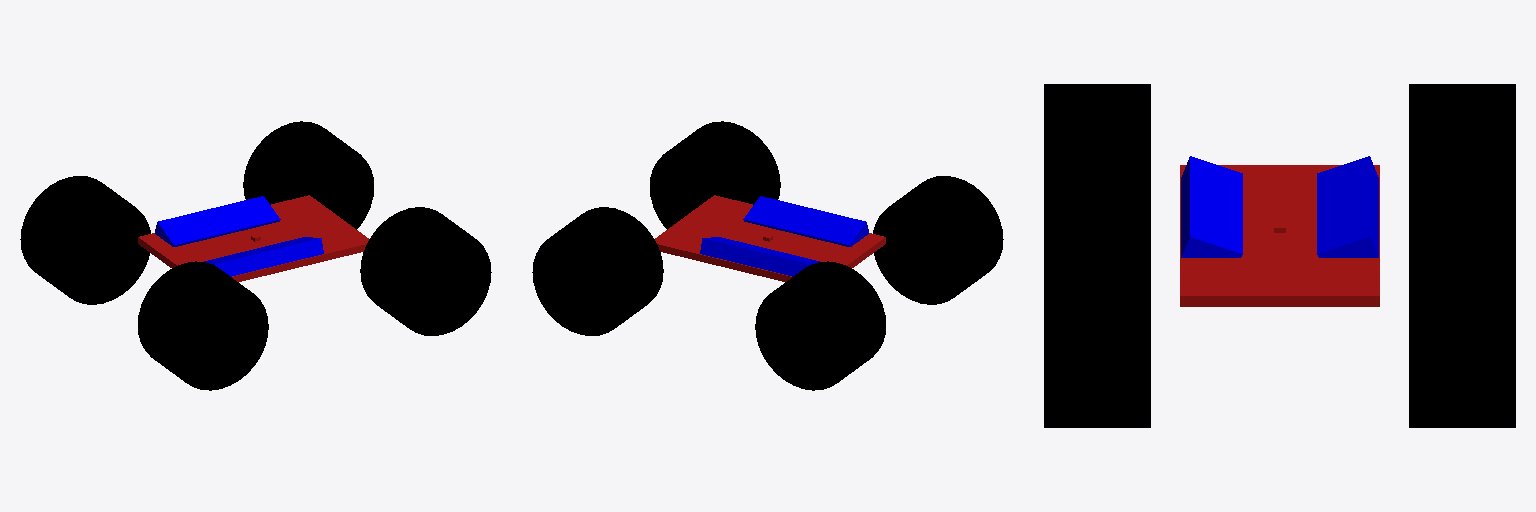
URDF robot description (em_3905):
<?xml version="1.0" ?>
<!-- =================================================================================== -->
<!-- |    This document was autogenerated by xacro from em_3905.urdf.xacro             | -->
<!-- |    EDITING THIS FILE BY HAND IS NOT RECOMMENDED                                 | -->
<!-- =================================================================================== -->
<!-- em_3905.urdf.xacro

This file defines a model of a Traxxas(R) E-Maxx(R) #3905 RC (Radio Controlled)
truck.

Lengths are measured in meters, angles are measured in radians, and masses are
measured in kilograms. All of these values are approximations.

To work with Gazebo, each link must have an inertial element, even if
the link only serves to connect two joints. To be visible in Gazebo, a link
must have a collision element. Furthermore, the link must have a Gazebo
material.

Traxxas(R), E-Maxx(R), and Titan(R) are registered trademarks of Traxxas
Management, LLC. em_3905.urdf.xacro was independently created by Wunderkammer
Laboratory, and neither em_3905.urdf.xacro nor Wunderkammer Laboratory is
affiliated with, sponsored by, approved by, or endorsed by Traxxas Management,
LLC. Mabuchi Motor(R) is a registered trademark of Mabuchi Motor Co., Ltd.
Corporation Japan. All other trademarks and service marks are the property of
their respective owners.

Copyright (c) 2011-2014 Wunderkammer Laboratory

Licensed under the Apache License, Version 2.0 (the "License");
you may not use this file except in compliance with the License.
You may obtain a copy of the License at

  http://www.apache.org/licenses/LICENSE-2.0

Unless required by applicable law or agreed to in writing, software
distributed under the License is distributed on an "AS IS" BASIS,
WITHOUT WARRANTIES OR CONDITIONS OF ANY KIND, either express or implied.
See the License for the specific language governing permissions and
limitations under the License.
-->
<robot name="em_3905">
  <material name="battery_mat">
    <color rgba="0 0 1 1"/>
  </material>
  <material name="chassis_mat">
    <color rgba="0.7 0.1 0.1 1"/>
  </material>
  <material name="tire_mat">
    <color rgba="0 0 0 1"/>
  </material>
  <!-- base_link must have geometry so that its axes can be displayed in
       rviz. -->
  <link name="base_link">
    <visual>
      <geometry>
        <box size="0.01 0.01 0.01"/>
      </geometry>
      <material name="chassis_mat"/>
    </visual>
  </link>
  <gazebo reference="base_link">
    <material>Gazebo/Red</material>
  </gazebo>
  <!-- Chassis -->
  <link name="chassis">
    <visual>
      <origin xyz="0 0 -0.005"/>
      <geometry>
        <box size="0.258 0.168 0.01"/>
      </geometry>
      <material name="chassis_mat"/>
    </visual>
    <collision>
      <origin xyz="0 0 -0.005"/>
      <geometry>
        <box size="0.258 0.168 0.01"/>
      </geometry>
    </collision>
    <inertial>
      <origin xyz="0 0 -0.005"/>
      <mass value="2.788"/>
      <inertia ixx="0.0065806093333333334" ixy="0" ixz="0" iyy="0.015488269333333332" iyz="0" izz="0.022022411999999995"/>
    </inertial>
  </link>
  <gazebo reference="chassis">
    <material>Gazebo/Red</material>
  </gazebo>
  <joint name="base_link_to_chassis" type="fixed">
    <parent link="base_link"/>
    <child link="chassis"/>
  </joint>
  <joint name="chassis_to_left_battery" type="fixed">
    <parent link="chassis"/>
    <child link="left_battery_offset"/>
    <origin rpy="0.34906585 0 0" xyz="-0.025                    0.0325                    0"/>
  </joint>
  <link name="left_battery_offset">
    <inertial>
      <mass value="0.001"/>
      <inertia ixx="0.001" ixy="0" ixz="0" iyy="0.001" iyz="0" izz="0.001"/>
    </inertial>
  </link>
  <joint name="offset_to_left_battery" type="fixed">
    <parent link="left_battery_offset"/>
    <child link="left_battery"/>
    <origin xyz="0                    0.0235                    -0.008"/>
  </joint>
  <link name="left_battery">
    <visual>
      <geometry>
        <box size="0.16 0.047 0.024"/>
      </geometry>
      <material name="battery_mat"/>
    </visual>
    <collision>
      <geometry>
        <box size="0.16 0.047 0.024"/>
      </geometry>
    </collision>
    <inertial>
      <origin/>
      <mass value="0.5025"/>
      <inertia ixx="0.000116621875" ixy="0" ixz="0" iyy="0.00109612" iyz="0" izz="0.0011645018749999998"/>
    </inertial>
  </link>
  <gazebo reference="left_battery">
    <material>Gazebo/Blue</material>
  </gazebo>
  <joint name="chassis_to_right_battery" type="fixed">
    <parent link="chassis"/>
    <child link="right_battery_offset"/>
    <origin rpy="-0.34906585 0 0" xyz="-0.025                    -0.0325                    0"/>
  </joint>
  <link name="right_battery_offset">
    <inertial>
      <mass value="0.001"/>
      <inertia ixx="0.001" ixy="0" ixz="0" iyy="0.001" iyz="0" izz="0.001"/>
    </inertial>
  </link>
  <joint name="offset_to_right_battery" type="fixed">
    <parent link="right_battery_offset"/>
    <child link="right_battery"/>
    <origin xyz="0                    -0.0235                    -0.008"/>
  </joint>
  <link name="right_battery">
    <visual>
      <geometry>
        <box size="0.16 0.047 0.024"/>
      </geometry>
      <material name="battery_mat"/>
    </visual>
    <collision>
      <geometry>
        <box size="0.16 0.047 0.024"/>
      </geometry>
    </collision>
    <inertial>
      <origin/>
      <mass value="0.5025"/>
      <inertia ixx="0.000116621875" ixy="0" ixz="0" iyy="0.00109612" iyz="0" izz="0.0011645018749999998"/>
    </inertial>
  </link>
  <gazebo reference="right_battery">
    <material>Gazebo/Blue</material>
  </gazebo>
  <joint name="left_front_shock" type="prismatic">
    <parent link="chassis"/>
    <child link="left_steering_link"/>
    <origin xyz="0.1675                    0.1525                    -0.0235"/>
    <axis xyz="0 0 -1"/>
    <limit effort="12.5106" lower="-0.042" upper="0.042" velocity="1000"/>
  </joint>
  <transmission name="left_front_shock_trans">
    <type>transmission_interface/SimpleTransmission</type>
    <joint name="left_front_shock">
      <hardwareInterface>hardware_interface/EffortJointInterface</hardwareInterface>
    </joint>
    <actuator name="left_front_shock_act">
      <!-- This hardwareInterface element exists for compatibility
             with ROS Hydro. -->
      <hardwareInterface>EffortJointInterface</hardwareInterface>
      <mechanicalReduction>1</mechanicalReduction>
    </actuator>
  </transmission>
  <link name="left_steering_link">
    <inertial>
      <mass value="0.001"/>
      <inertia ixx="0.001" ixy="0" ixz="0" iyy="0.001" iyz="0" izz="0.001"/>
    </inertial>
  </link>
  <joint name="left_steering_joint" type="revolute">
    <parent link="left_steering_link"/>
    <child link="left_front_axle_carrier"/>
    <axis xyz="0 0 1"/>
    <limit effort="0.5649" lower="-0.785398163" upper="0.785398163" velocity="4.553"/>
  </joint>
  <transmission name="left_steering_trans">
    <type>transmission_interface/SimpleTransmission</type>
    <joint name="left_steering_joint">
      <hardwareInterface>hardware_interface/EffortJointInterface</hardwareInterface>
    </joint>
    <actuator name="left_steering_act">
      <!-- This hardwareInterface element exists for compatibility
             with ROS Hydro. -->
      <hardwareInterface>EffortJointInterface</hardwareInterface>
      <mechanicalReduction>1</mechanicalReduction>
    </actuator>
  </transmission>
  <link name="left_front_axle_carrier">
    <inertial>
      <mass value="0.001"/>
      <inertia ixx="0.001" ixy="0" ixz="0" iyy="0.001" iyz="0" izz="0.001"/>
    </inertial>
  </link>
  <!-- The left and right axles have the same axis so that identical
         rotation values cause the wheels to rotate in the same direction. -->
  <joint name="left_front_axle" type="continuous">
    <parent link="left_front_axle_carrier"/>
    <child link="left_front_wheel"/>
    <origin rpy="1.57079633 0 0"/>
    <axis xyz="0 0 -1"/>
    <limit effort="5.12766" velocity="244.8696"/>
  </joint>
  <transmission name="left_front_axle_trans">
    <type>transmission_interface/SimpleTransmission</type>
    <joint name="left_front_axle">
      <hardwareInterface>hardware_interface/EffortJointInterface</hardwareInterface>
    </joint>
    <actuator name="left_front_axle_act">
      <!-- This hardwareInterface element exists for compatibility
             with ROS Hydro. -->
      <hardwareInterface>EffortJointInterface</hardwareInterface>
      <mechanicalReduction>1</mechanicalReduction>
    </actuator>
  </transmission>
  <link name="left_front_wheel">
    <visual>
      <origin xyz="0                      -6.938893903907228e-18                      0"/>
      <geometry>
        <cylinder length="0.0889" radius="0.073025"/>
      </geometry>
      <material name="tire_mat"/>
    </visual>
    <collision>
      <origin xyz="0                      -6.938893903907228e-18                      0"/>
      <geometry>
        <cylinder length="0.0889" radius="0.073025"/>
      </geometry>
    </collision>
    <inertial>
      <mass value="0.29"/>
      <inertia ixx="0.0007464659129791666" ixy="0" ixz="0" iyy="0.0007464659129791666" iyz="0" izz="0.001110943342625"/>
    </inertial>
  </link>
  <gazebo reference="left_front_wheel">
    <material>Gazebo/Black</material>
  </gazebo>
  <joint name="right_front_shock" type="prismatic">
    <parent link="chassis"/>
    <child link="right_steering_link"/>
    <origin xyz="0.1675                    -0.1525                    -0.0235"/>
    <axis xyz="0 0 -1"/>
    <limit effort="12.5106" lower="-0.042" upper="0.042" velocity="1000"/>
  </joint>
  <transmission name="right_front_shock_trans">
    <type>transmission_interface/SimpleTransmission</type>
    <joint name="right_front_shock">
      <hardwareInterface>hardware_interface/EffortJointInterface</hardwareInterface>
    </joint>
    <actuator name="right_front_shock_act">
      <!-- This hardwareInterface element exists for compatibility
             with ROS Hydro. -->
      <hardwareInterface>EffortJointInterface</hardwareInterface>
      <mechanicalReduction>1</mechanicalReduction>
    </actuator>
  </transmission>
  <link name="right_steering_link">
    <inertial>
      <mass value="0.001"/>
      <inertia ixx="0.001" ixy="0" ixz="0" iyy="0.001" iyz="0" izz="0.001"/>
    </inertial>
  </link>
  <joint name="right_steering_joint" type="revolute">
    <parent link="right_steering_link"/>
    <child link="right_front_axle_carrier"/>
    <axis xyz="0 0 1"/>
    <limit effort="0.5649" lower="-0.785398163" upper="0.785398163" velocity="4.553"/>
  </joint>
  <transmission name="right_steering_trans">
    <type>transmission_interface/SimpleTransmission</type>
    <joint name="right_steering_joint">
      <hardwareInterface>hardware_interface/EffortJointInterface</hardwareInterface>
    </joint>
    <actuator name="right_steering_act">
      <!-- This hardwareInterface element exists for compatibility
             with ROS Hydro. -->
      <hardwareInterface>EffortJointInterface</hardwareInterface>
      <mechanicalReduction>1</mechanicalReduction>
    </actuator>
  </transmission>
  <link name="right_front_axle_carrier">
    <inertial>
      <mass value="0.001"/>
      <inertia ixx="0.001" ixy="0" ixz="0" iyy="0.001" iyz="0" izz="0.001"/>
    </inertial>
  </link>
  <!-- The left and right axles have the same axis so that identical
         rotation values cause the wheels to rotate in the same direction. -->
  <joint name="right_front_axle" type="continuous">
    <parent link="right_front_axle_carrier"/>
    <child link="right_front_wheel"/>
    <origin rpy="1.57079633 0 0"/>
    <axis xyz="0 0 -1"/>
    <limit effort="5.12766" velocity="244.8696"/>
  </joint>
  <transmission name="right_front_axle_trans">
    <type>transmission_interface/SimpleTransmission</type>
    <joint name="right_front_axle">
      <hardwareInterface>hardware_interface/EffortJointInterface</hardwareInterface>
    </joint>
    <actuator name="right_front_axle_act">
      <!-- This hardwareInterface element exists for compatibility
             with ROS Hydro. -->
      <hardwareInterface>EffortJointInterface</hardwareInterface>
      <mechanicalReduction>1</mechanicalReduction>
    </actuator>
  </transmission>
  <link name="right_front_wheel">
    <visual>
      <origin xyz="0                      6.938893903907228e-18                      0"/>
      <geometry>
        <cylinder length="0.0889" radius="0.073025"/>
      </geometry>
      <material name="tire_mat"/>
    </visual>
    <collision>
      <origin xyz="0                      6.938893903907228e-18                      0"/>
      <geometry>
        <cylinder length="0.0889" radius="0.073025"/>
      </geometry>
    </collision>
    <inertial>
      <mass value="0.29"/>
      <inertia ixx="0.0007464659129791666" ixy="0" ixz="0" iyy="0.0007464659129791666" iyz="0" izz="0.001110943342625"/>
    </inertial>
  </link>
  <gazebo reference="right_front_wheel">
    <material>Gazebo/Black</material>
  </gazebo>
  <joint name="left_rear_shock" type="prismatic">
    <parent link="chassis"/>
    <child link="left_rear_axle_carrier"/>
    <origin xyz="-0.1675                    0.1525                    -0.0235"/>
    <axis xyz="0 0 -1"/>
    <limit effort="12.5106" lower="-0.042" upper="0.042" velocity="1000"/>
  </joint>
  <transmission name="left_rear_shock_trans">
    <type>transmission_interface/SimpleTransmission</type>
    <joint name="left_rear_shock">
      <hardwareInterface>hardware_interface/EffortJointInterface</hardwareInterface>
    </joint>
    <actuator name="left_rear_shock_act">
      <!-- This hardwareInterface element exists for compatibility
             with ROS Hydro. -->
      <hardwareInterface>EffortJointInterface</hardwareInterface>
      <mechanicalReduction>1</mechanicalReduction>
    </actuator>
  </transmission>
  <link name="left_rear_axle_carrier">
    <inertial>
      <mass value="0.001"/>
      <inertia ixx="0.001" ixy="0" ixz="0" iyy="0.001" iyz="0" izz="0.001"/>
    </inertial>
  </link>
  <!-- The left and right axles have the same axis so that identical
         rotation values cause the wheels to rotate in the same direction. -->
  <joint name="left_rear_axle" type="continuous">
    <parent link="left_rear_axle_carrier"/>
    <child link="left_rear_wheel"/>
    <origin rpy="1.57079633 0 0"/>
    <axis xyz="0 0 -1"/>
    <limit effort="5.12766" velocity="244.8696"/>
  </joint>
  <transmission name="left_rear_axle_trans">
    <type>transmission_interface/SimpleTransmission</type>
    <joint name="left_rear_axle">
      <hardwareInterface>hardware_interface/EffortJointInterface</hardwareInterface>
    </joint>
    <actuator name="left_rear_axle_act">
      <!-- This hardwareInterface element exists for compatibility
             with ROS Hydro. -->
      <hardwareInterface>EffortJointInterface</hardwareInterface>
      <mechanicalReduction>1</mechanicalReduction>
    </actuator>
  </transmission>
  <link name="left_rear_wheel">
    <visual>
      <origin xyz="0                      -6.938893903907228e-18                      0"/>
      <geometry>
        <cylinder length="0.0889" radius="0.073025"/>
      </geometry>
      <material name="tire_mat"/>
    </visual>
    <collision>
      <origin xyz="0                      -6.938893903907228e-18                      0"/>
      <geometry>
        <cylinder length="0.0889" radius="0.073025"/>
      </geometry>
    </collision>
    <inertial>
      <mass value="0.29"/>
      <inertia ixx="0.0007464659129791666" ixy="0" ixz="0" iyy="0.0007464659129791666" iyz="0" izz="0.001110943342625"/>
    </inertial>
  </link>
  <gazebo reference="left_rear_wheel">
    <material>Gazebo/Black</material>
  </gazebo>
  <joint name="right_rear_shock" type="prismatic">
    <parent link="chassis"/>
    <child link="right_rear_axle_carrier"/>
    <origin xyz="-0.1675                    -0.1525                    -0.0235"/>
    <axis xyz="0 0 -1"/>
    <limit effort="12.5106" lower="-0.042" upper="0.042" velocity="1000"/>
  </joint>
  <transmission name="right_rear_shock_trans">
    <type>transmission_interface/SimpleTransmission</type>
    <joint name="right_rear_shock">
      <hardwareInterface>hardware_interface/EffortJointInterface</hardwareInterface>
    </joint>
    <actuator name="right_rear_shock_act">
      <!-- This hardwareInterface element exists for compatibility
             with ROS Hydro. -->
      <hardwareInterface>EffortJointInterface</hardwareInterface>
      <mechanicalReduction>1</mechanicalReduction>
    </actuator>
  </transmission>
  <link name="right_rear_axle_carrier">
    <inertial>
      <mass value="0.001"/>
      <inertia ixx="0.001" ixy="0" ixz="0" iyy="0.001" iyz="0" izz="0.001"/>
    </inertial>
  </link>
  <!-- The left and right axles have the same axis so that identical
         rotation values cause the wheels to rotate in the same direction. -->
  <joint name="right_rear_axle" type="continuous">
    <parent link="right_rear_axle_carrier"/>
    <child link="right_rear_wheel"/>
    <origin rpy="1.57079633 0 0"/>
    <axis xyz="0 0 -1"/>
    <limit effort="5.12766" velocity="244.8696"/>
  </joint>
  <transmission name="right_rear_axle_trans">
    <type>transmission_interface/SimpleTransmission</type>
    <joint name="right_rear_axle">
      <hardwareInterface>hardware_interface/EffortJointInterface</hardwareInterface>
    </joint>
    <actuator name="right_rear_axle_act">
      <!-- This hardwareInterface element exists for compatibility
             with ROS Hydro. -->
      <hardwareInterface>EffortJointInterface</hardwareInterface>
      <mechanicalReduction>1</mechanicalReduction>
    </actuator>
  </transmission>
  <link name="right_rear_wheel">
    <visual>
      <origin xyz="0                      6.938893903907228e-18                      0"/>
      <geometry>
        <cylinder length="0.0889" radius="0.073025"/>
      </geometry>
      <material name="tire_mat"/>
    </visual>
    <collision>
      <origin xyz="0                      6.938893903907228e-18                      0"/>
      <geometry>
        <cylinder length="0.0889" radius="0.073025"/>
      </geometry>
    </collision>
    <inertial>
      <mass value="0.29"/>
      <inertia ixx="0.0007464659129791666" ixy="0" ixz="0" iyy="0.0007464659129791666" iyz="0" izz="0.001110943342625"/>
    </inertial>
  </link>
  <gazebo reference="right_rear_wheel">
    <material>Gazebo/Black</material>
  </gazebo>
  <!-- Size of square 'camera' box -->
  <joint name="camera_joint" type="fixed">
    <axis xyz="0 0 0"/>
    <origin rpy="0 1.57079633 0" xyz="0 0 2.0"/>
    <parent link="chassis"/>
    <child link="camera_link"/>
  </joint>
  <!-- Camera -->
  <link name="camera_link">
    <collision>
      <origin rpy="0 0 0" xyz="0 0 0"/>
      <geometry>
        <box size="0.05 0.05 0.05"/>
      </geometry>
    </collision>
    <!-- <visual>
      <origin xyz="0 0 0" rpy="0 0 0"/>
      <geometry>
    <box size="${camera_link} ${camera_link} ${camera_link}"/>
      </geometry>
      <material name="red"/>
    </visual> -->
    <inertial>
      <mass value="1e-5"/>
      <origin rpy="0 0 0" xyz="0 0 0"/>
      <inertia ixx="1e-6" ixy="0" ixz="0" iyy="1e-6" iyz="0" izz="1e-6"/>
    </inertial>
  </link>
  <gazebo>
    <plugin filename="libgazebo_ros_control.so" name="gazebo_ros_control"/>
    <!-- <plugin name="p3d_base_controller" filename="libgazebo_ros_p3d.so">
      <alwaysOn>true</alwaysOn>
      <updateRate>50.0</updateRate>
      <bodyName>base_link</bodyName>
      <topicName>ground_truth/state</topicName>
      <gaussianNoise>0.01</gaussianNoise>
      <frameName>world</frameName>
      <xyzOffsets>0 0 0</xyzOffsets>
      <rpyOffsets>0 0 0</rpyOffsets>
    </plugin> -->
  </gazebo>
  <!-- camera -->
  <gazebo reference="camera_link">
    <sensor name="camera1" type="camera">
      <update_rate>60.0</update_rate>
      <camera name="head">
        <horizontal_fov>1.7962634</horizontal_fov>
        <image>
          <width>256</width>
          <height>256</height>
          <format>R8G8B8</format>
        </image>
        <clip>
          <near>0.02</near>
          <far>300</far>
        </clip>
        <noise>
          <type>gaussian</type>
          <!-- Noise is sampled independently per pixel on each frame.
               That pixel's noise value is added to each of its color
               channels, which at that point lie in the range [0,1]. -->
          <mean>0.0</mean>
          <stddev>0.007</stddev>
        </noise>
      </camera>
      <plugin filename="libgazebo_ros_camera.so" name="camera_controller">
        <alwaysOn>true</alwaysOn>
        <updateRate>0.0</updateRate>
        <cameraName>camera1</cameraName>
        <imageTopicName>image_raw</imageTopicName>
        <cameraInfoTopicName>camera_info</cameraInfoTopicName>
        <frameName>camera_link</frameName>
        <hackBaseline>0.07</hackBaseline>
        <distortionK1>0.0</distortionK1>
        <distortionK2>0.0</distortionK2>
        <distortionK3>0.0</distortionK3>
        <distortionT1>0.0</distortionT1>
        <distortionT2>0.0</distortionT2>
      </plugin>
    </sensor>
  </gazebo>
</robot>

--- Facts derived from the render (not from the file) ---
The picture shows the robot from 3 angles, left to right: view 1: azimuth 30°, elevation 25°; view 2: azimuth 150°, elevation 25°; view 3: azimuth 270°, elevation 25°; orthographic projection.
Model em_3905 with 17 links and 16 joints (2 revolute, 4 continuous, 4 prismatic, 6 fixed), rooted at base_link, posed every joint at zero.
Visible links, largest first — view 1: right_front_wheel, right_rear_wheel, left_rear_wheel, left_front_wheel, chassis, left_battery, right_battery; view 2: left_front_wheel, left_rear_wheel, right_rear_wheel, right_front_wheel, chassis, right_battery, left_battery; view 3: left_front_wheel, right_front_wheel, left_rear_wheel, right_rear_wheel, chassis, left_battery, right_battery.
Link boxes in pixels (x1,y1,x2,y2): right_front_wheel: (360, 207, 491, 335); right_rear_wheel: (138, 261, 268, 390); left_rear_wheel: (20, 176, 150, 304); left_front_wheel: (243, 121, 373, 229); chassis: (138, 195, 368, 281); left_battery: (155, 196, 280, 246); right_battery: (204, 237, 323, 276); left_front_wheel: (532, 207, 663, 335); left_rear_wheel: (755, 261, 885, 390); right_rear_wheel: (873, 176, 1003, 304); right_front_wheel: (650, 121, 780, 229); chassis: (655, 195, 885, 281); right_battery: (743, 196, 868, 246); left_battery: (700, 237, 819, 276); left_front_wheel: (1409, 253, 1515, 427); right_front_wheel: (1044, 253, 1150, 427); left_rear_wheel: (1409, 84, 1515, 252); right_rear_wheel: (1044, 84, 1150, 252); chassis: (1180, 165, 1379, 306); left_battery: (1317, 156, 1378, 257); right_battery: (1181, 156, 1242, 257).
Size in the robot's own frame: 0.4811 by 0.3939 by 0.1461 metres.
Geometry: primitives only (box / cylinder / sphere), no mesh files.
